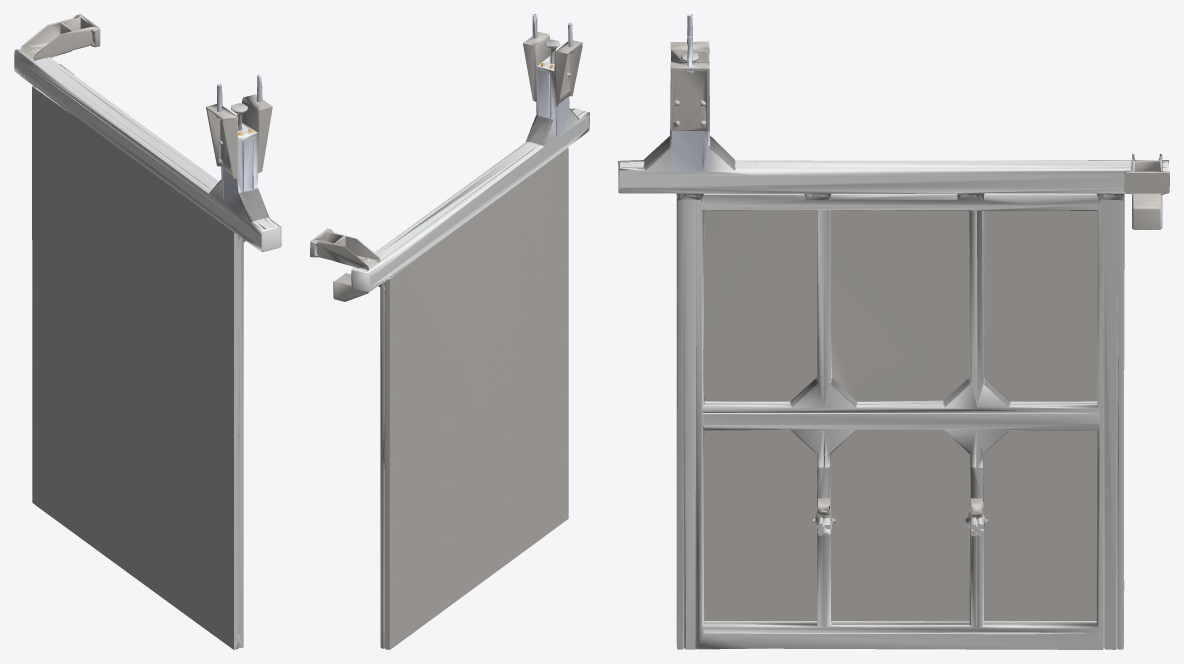
Rendered from SideWall.fbx.
3 renders of one model, left to right at view 1: azimuth 30°, elevation 25°; view 2: azimuth 150°, elevation 25°; view 3: azimuth 270°, elevation 25°, orthographic. The views are drawn at different scales.
Parts seen in each view (by area): view 1: ProcessedMeshNode_LOD1; view 2: ProcessedMeshNode_LOD1; view 3: ProcessedMeshNode_LOD1.
Part boxes in pixels (x1,y1,x2,y2): ProcessedMeshNode_LOD1: (14, 14, 281, 649); ProcessedMeshNode_LOD1: (310, 14, 589, 649); ProcessedMeshNode_LOD1: (618, 14, 1169, 649).
Bounding box in the file's own units: 34.31 × 216 × 173.
Materials: 1 (1 with a texture image).
